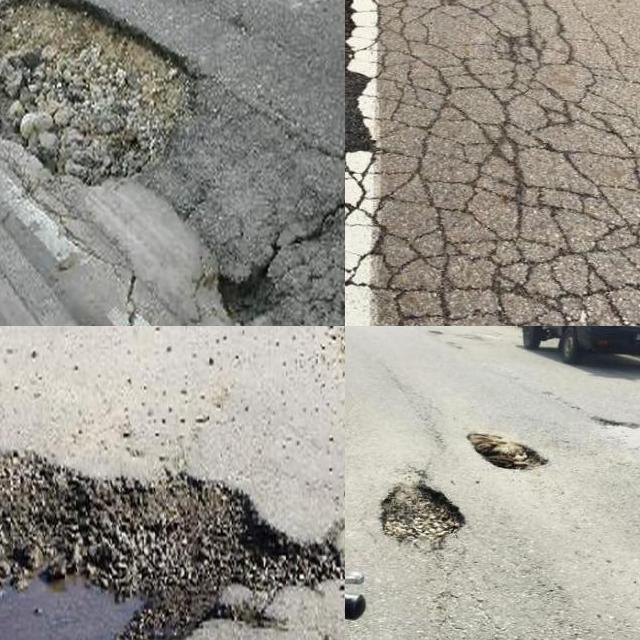Lubang: (0, 464, 338, 640), (0, 0, 187, 177), (381, 483, 465, 543), (213, 263, 282, 319), (461, 426, 540, 471)
Retak Buaya: (345, 0, 640, 326)
